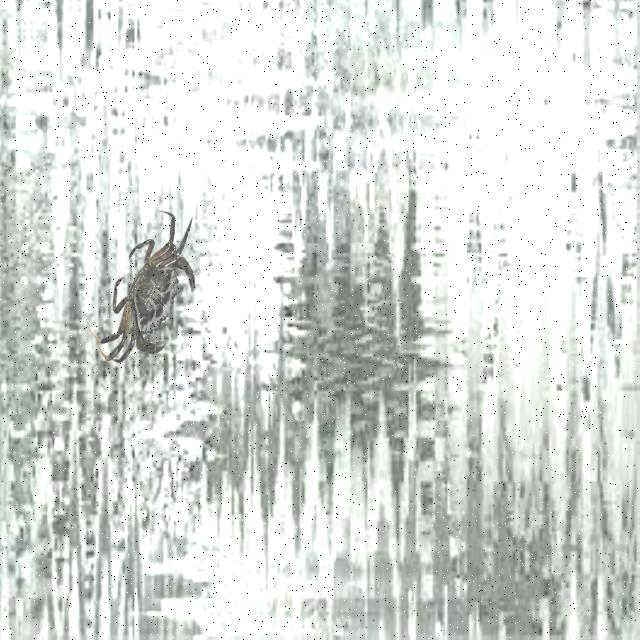European_Green_Crab: (83, 187, 221, 395)
